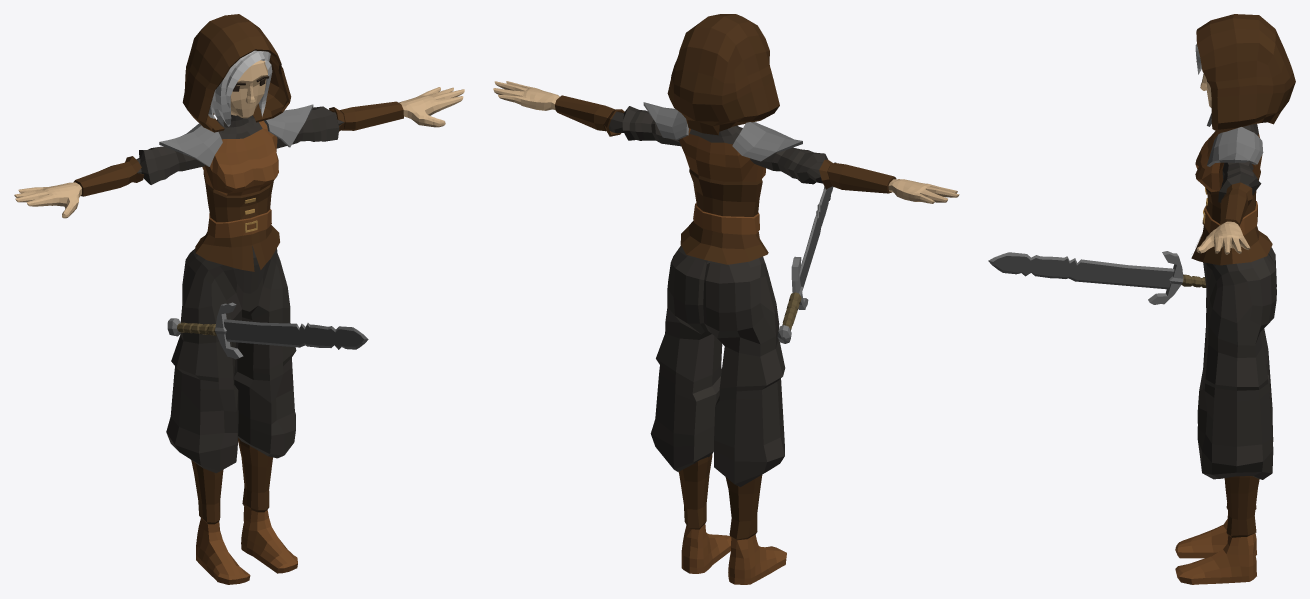
The model's file is hooded_adventurer.glb.
The picture shows the model from 3 angles, left to right: view 1: azimuth 30°, elevation 25°; view 2: azimuth 150°, elevation 25°; view 3: azimuth 270°, elevation 25°; orthographic projection. The views are drawn at different scales.
Visible parts, largest first — view 1: Medieval_Legs, Medieval_Body, Medieval_Head_306ff2, Medieval_Body_2c5593, Medieval_Feet_5fd79a, Medieval_Body_4587a1, Medieval_Feet_7a0fe4, Medieval_Body_3f892b, Medieval_Body_c5580b, Sword_b8be19, Sword_e29432, Medieval_Head_6d2783 (+1 smaller); view 2: Medieval_Legs, Medieval_Head_306ff2, Medieval_Body, Medieval_Body_2c5593, Medieval_Feet_5fd79a, Medieval_Body_4587a1, Medieval_Feet_7a0fe4, Medieval_Body_c5580b, Medieval_Body_3f892b, Sword_e29432, Sword_b8be19; view 3: Medieval_Legs, Medieval_Head_306ff2, Medieval_Feet_5fd79a, Medieval_Body, Sword_b8be19, Sword_e29432, Medieval_Feet_7a0fe4, Medieval_Body_c5580b, Medieval_Body_2c5593, Medieval_Body_3f892b, Medieval_Body_4587a1.
Boxes of the visible parts, <box> form: Medieval_Legs: <box>166,246,296,473</box>; Medieval_Body: <box>74,101,403,271</box>; Medieval_Head_306ff2: <box>182,14,291,132</box>; Medieval_Body_2c5593: <box>202,120,278,237</box>; Medieval_Feet_5fd79a: <box>196,506,297,584</box>; Medieval_Body_4587a1: <box>136,106,344,184</box>; Medieval_Feet_7a0fe4: <box>191,438,272,524</box>; Medieval_Body_3f892b: <box>14,87,464,218</box>; Medieval_Body_c5580b: <box>159,104,313,166</box>; Sword_b8be19: <box>224,322,363,347</box>; Sword_e29432: <box>167,302,368,359</box>; Medieval_Head_6d2783: <box>208,50,272,126</box>; Medieval_Legs: <box>650,246,785,486</box>; Medieval_Head_306ff2: <box>667,14,779,135</box>; Medieval_Body: <box>555,95,896,264</box>; Medieval_Body_2c5593: <box>679,128,765,234</box>; Medieval_Feet_5fd79a: <box>681,524,786,584</box>; Medieval_Body_4587a1: <box>608,106,827,184</box>; Medieval_Feet_7a0fe4: <box>678,453,762,540</box>; Medieval_Body_c5580b: <box>643,102,802,161</box>; Medieval_Body_3f892b: <box>493,81,959,203</box>; Sword_e29432: <box>777,162,836,343</box>; Sword_b8be19: <box>800,186,833,287</box>; Medieval_Legs: <box>1197,247,1276,479</box>; Medieval_Head_306ff2: <box>1196,14,1295,132</box>; Medieval_Feet_5fd79a: <box>1175,512,1256,584</box>; Medieval_Body: <box>1191,169,1272,265</box>; Sword_b8be19: <box>993,256,1173,287</box>; Sword_e29432: <box>988,251,1183,304</box>; Medieval_Feet_7a0fe4: <box>1224,476,1259,537</box>; Medieval_Body_c5580b: <box>1207,113,1263,166</box>; Medieval_Body_2c5593: <box>1195,131,1262,235</box>; Medieval_Body_3f892b: <box>1196,61,1250,254</box>; Medieval_Body_4587a1: <box>1218,124,1261,202</box>.
Size of the model in its own units: 1.58 by 1.8 by 0.9177.
